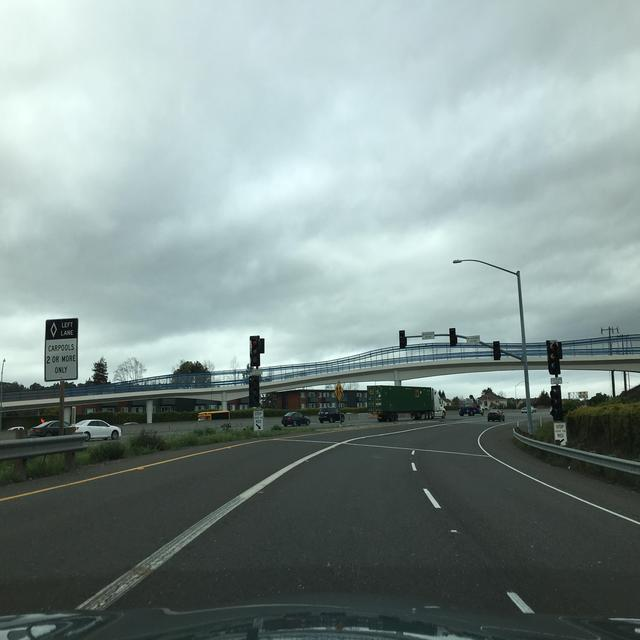Barrier: (111, 417, 281, 433), (305, 412, 410, 422), (446, 409, 520, 414), (0, 430, 15, 439)
Car: (8, 420, 121, 441), (281, 407, 339, 426), (487, 409, 504, 421)
Vegetation: (1, 407, 257, 480), (2, 355, 220, 424), (444, 387, 580, 471), (0, 460, 25, 486)
